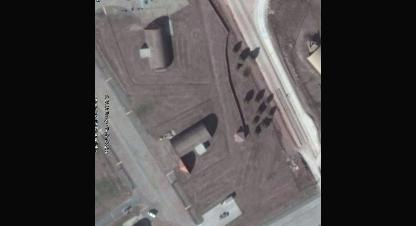A10: (134, 0, 155, 6)
